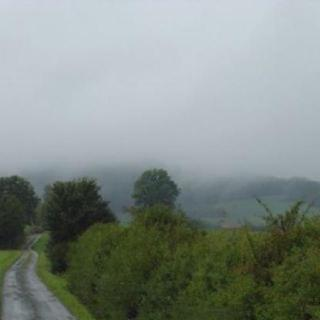Stratus: (0, 0, 320, 172)
